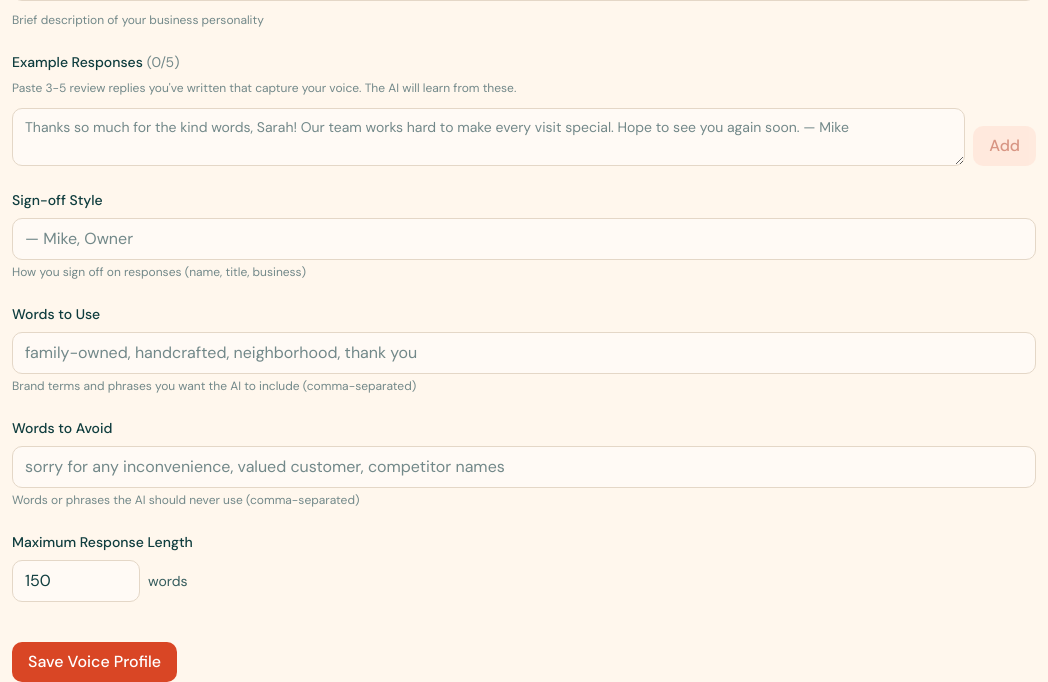
Test: components/voice-profile/VoiceEditor › validates max_length on input change
(page scrolled)
Replace the text in the number field labelled "Maximum Response Length" with "30" at (76, 581), box [12, 560, 140, 602]
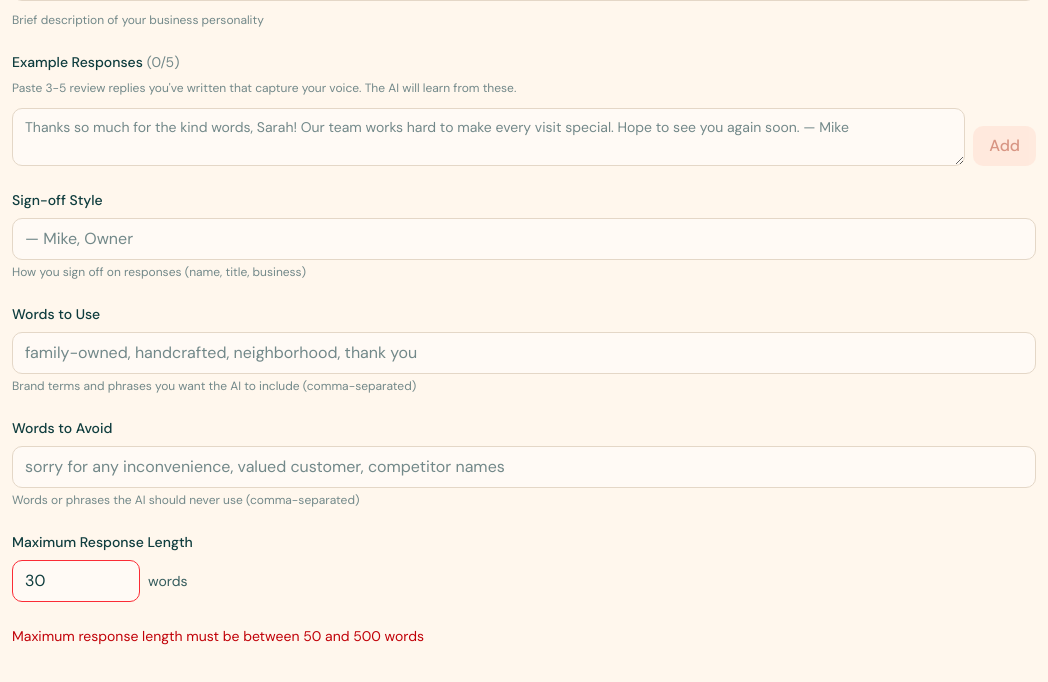
Now the message "Maximum response length must be between 50 and 500 words" is shown, box [12, 627, 424, 645]
